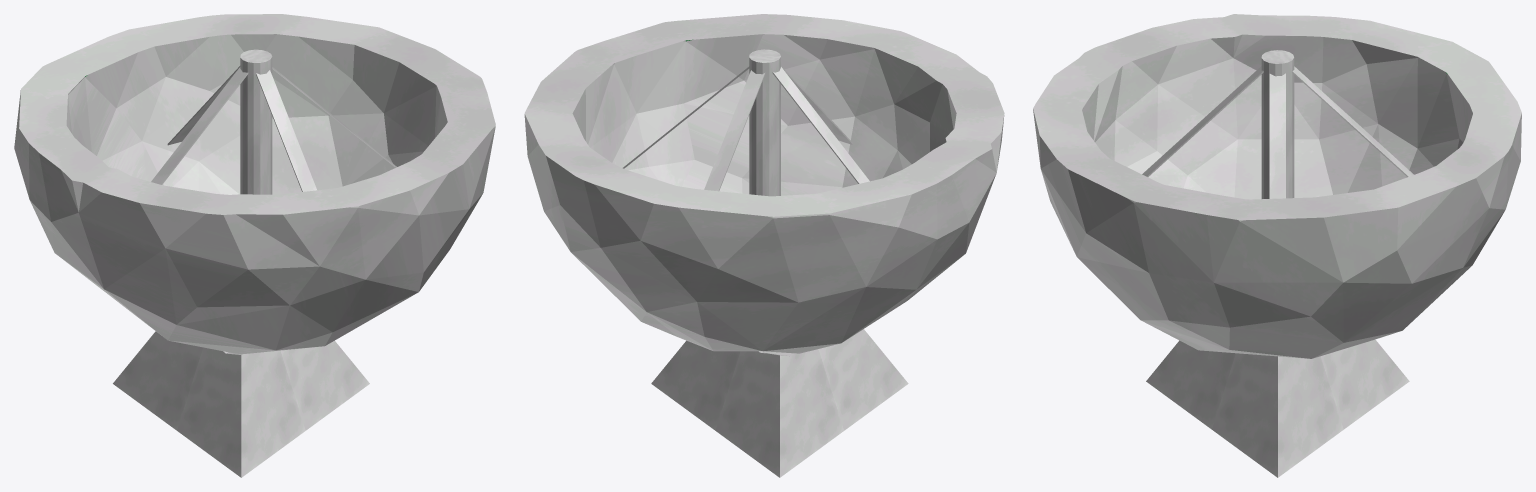
3 renders of one model, left to right at view 1: azimuth 30°, elevation 25°; view 2: azimuth 150°, elevation 25°; view 3: azimuth 270°, elevation 25°, orthographic. The views are drawn at different scales.
Parts seen in each view (by area): view 1: node_id5, node_id8; view 2: node_id5, node_id8; view 3: node_id5, node_id8.
Part boxes in pixels (x1,y1,x2,y2): node_id5: (14,14,495,353); node_id8: (113,331,369,477); node_id5: (524,14,1004,353); node_id8: (651,329,908,477); node_id5: (1033,14,1521,358); node_id8: (1146,339,1409,477).
Size of the model in its own units: 0.512 by 0.4213 by 0.5129.
3 materials, 2 textured.
